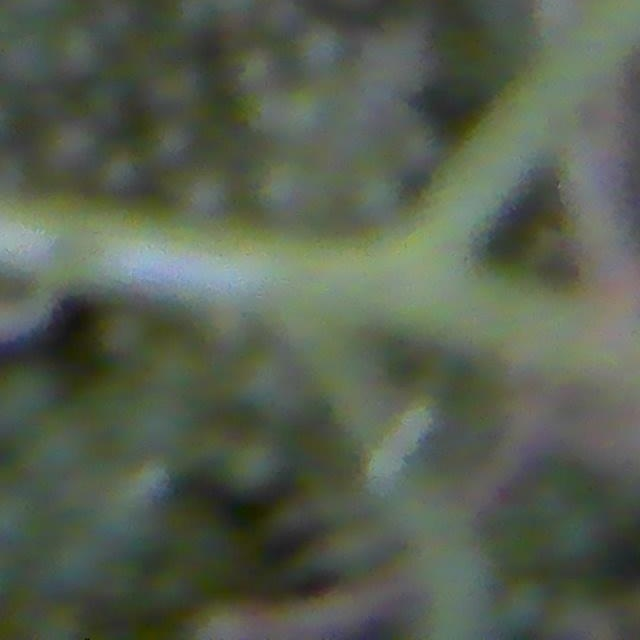SeaGrape: (294, 22, 349, 78)
